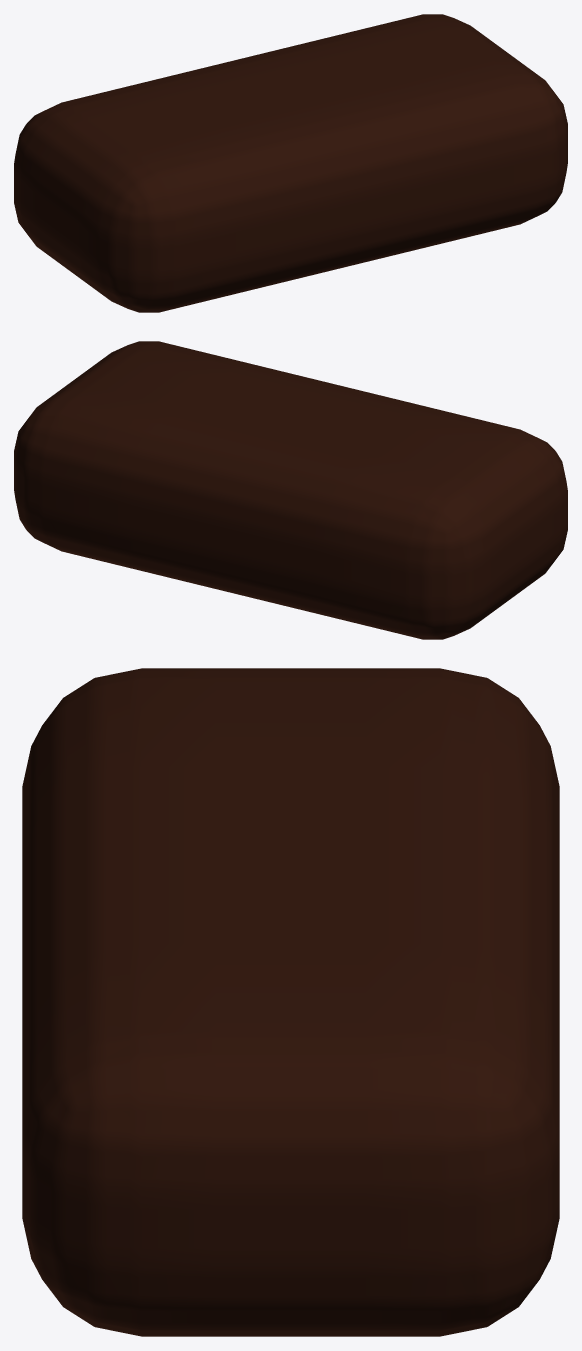
Rendered from Chocolate_Capsule.fbx.
3 renders of one model, top to bottom at view 1: azimuth 30°, elevation 25°; view 2: azimuth 150°, elevation 25°; view 3: azimuth 270°, elevation 25°, orthographic. The views are drawn at different scales.
Visible parts, largest first — view 1: Shell_Normal; view 2: Shell_Normal; view 3: Shell_Normal.
Part boxes in pixels (x1=…): Shell_Normal: x1=14, y1=14, x2=567, y2=312; Shell_Normal: x1=14, y1=341, x2=567, y2=639; Shell_Normal: x1=22, y1=668, x2=559, y2=1336.
Bounding box in the file's own units: 201 × 60.6 × 101.
